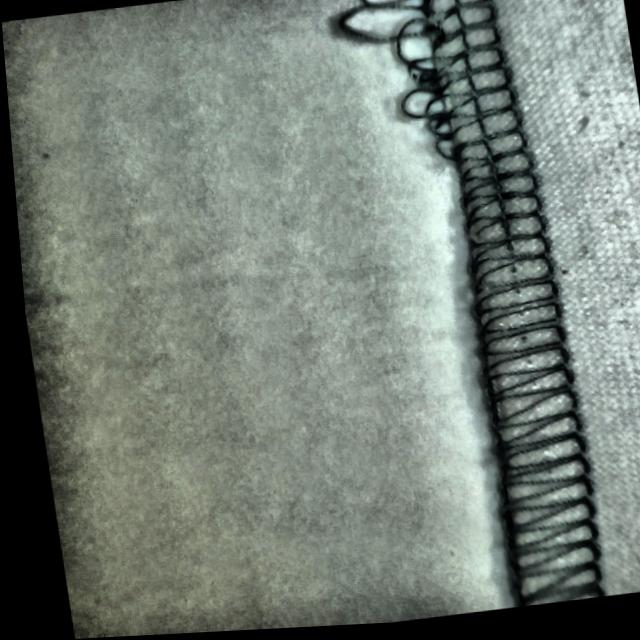Stitch: (328, 0, 525, 177)
